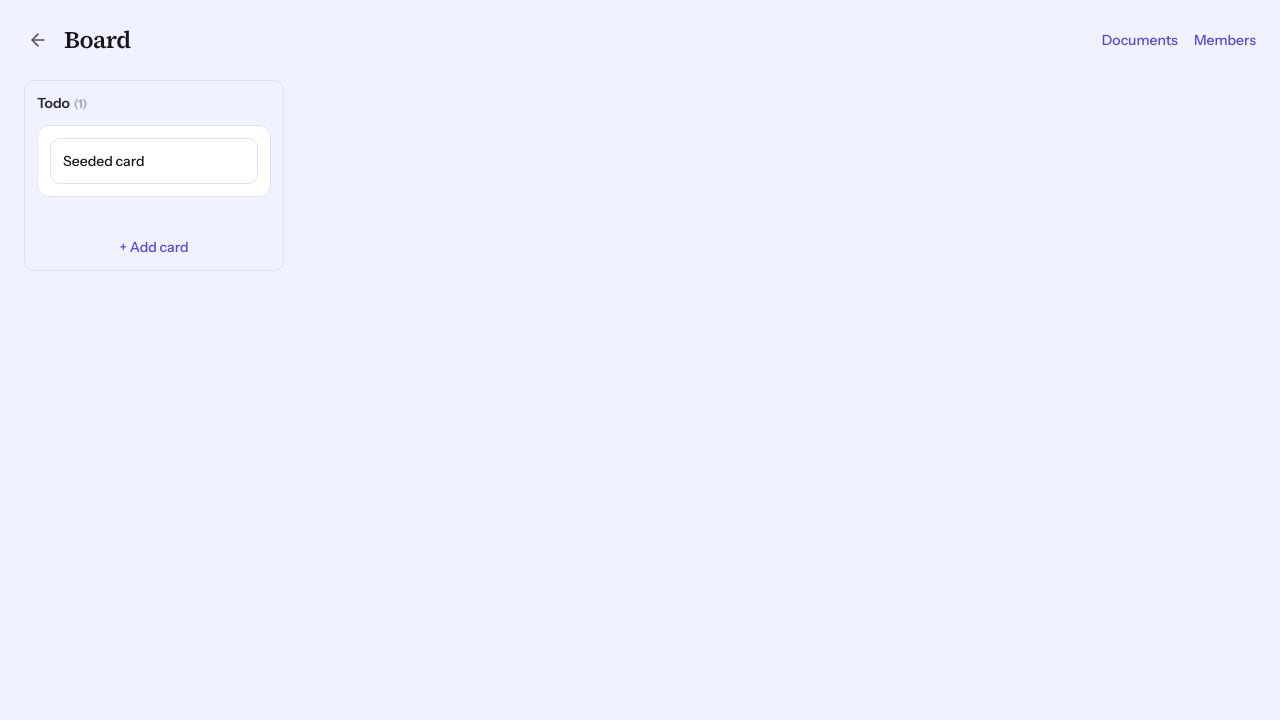
Board comments › posts a new comment through the API
Click the text "Seeded card".
click(104, 161)  # box [63,152,144,170]
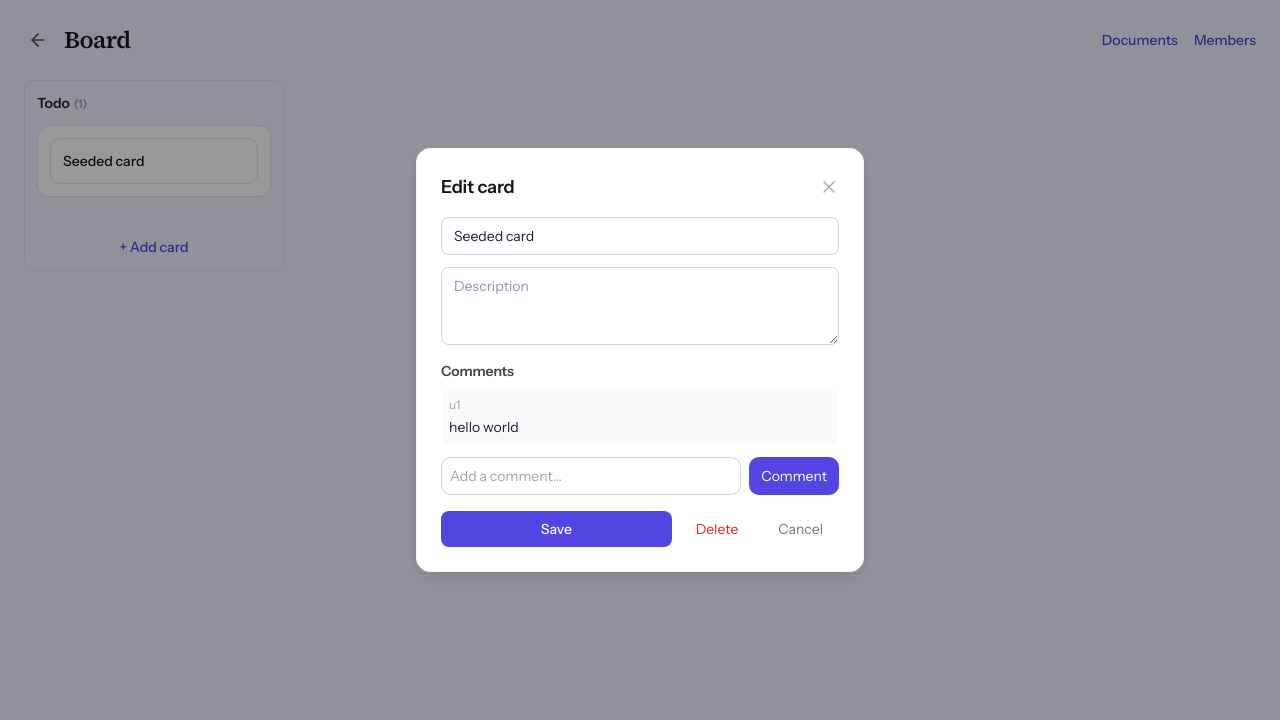
Check: the text "hello world" is shown, box [449,418,519,436]
Type "looks good" into the field with placeholder "Add a comment…".
click(591, 476); type("looks good")  # box [441,457,741,495]
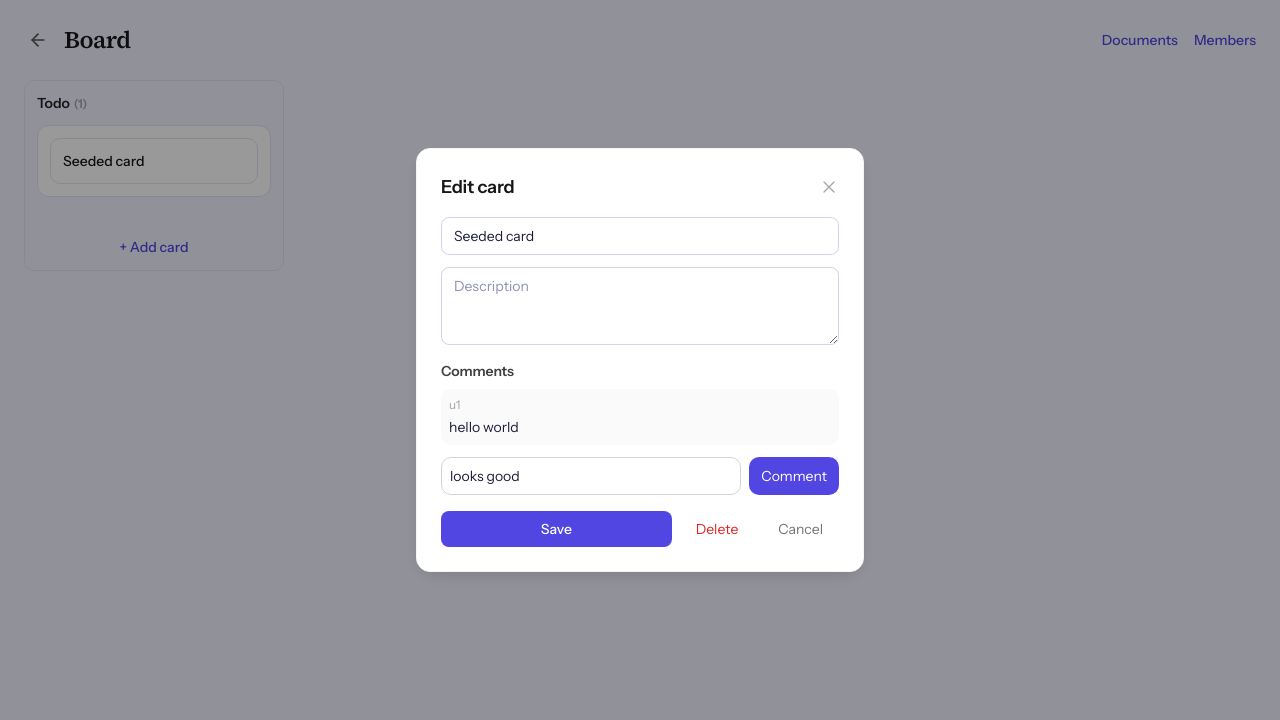
Click the button "Comment".
click(794, 476)  # box [749,457,839,495]
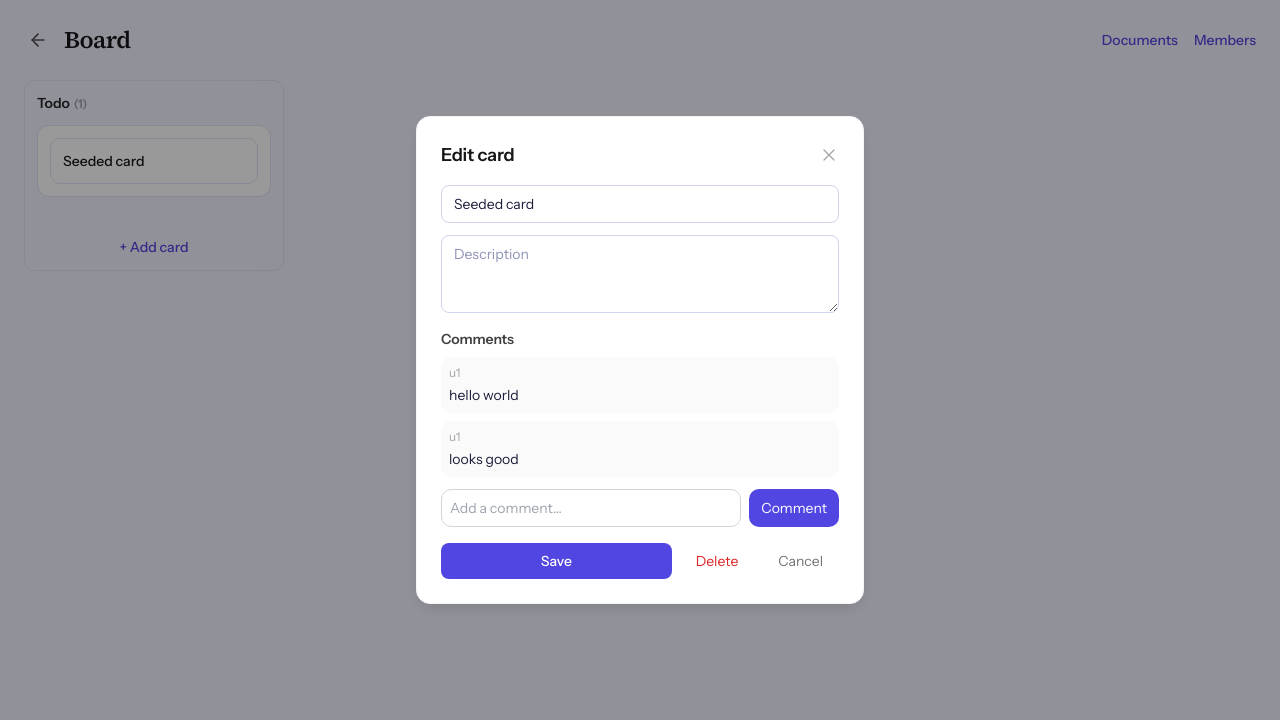
Check: the text "looks good" is shown, box [449,450,519,468]
